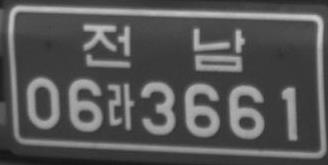0: (26, 76, 61, 129)
1: (274, 86, 309, 140)
3: (140, 80, 177, 135)
6: (68, 76, 104, 133), (229, 83, 265, 140), (184, 81, 220, 137)
라: (107, 81, 134, 130)
전남_D: (82, 22, 245, 71)
